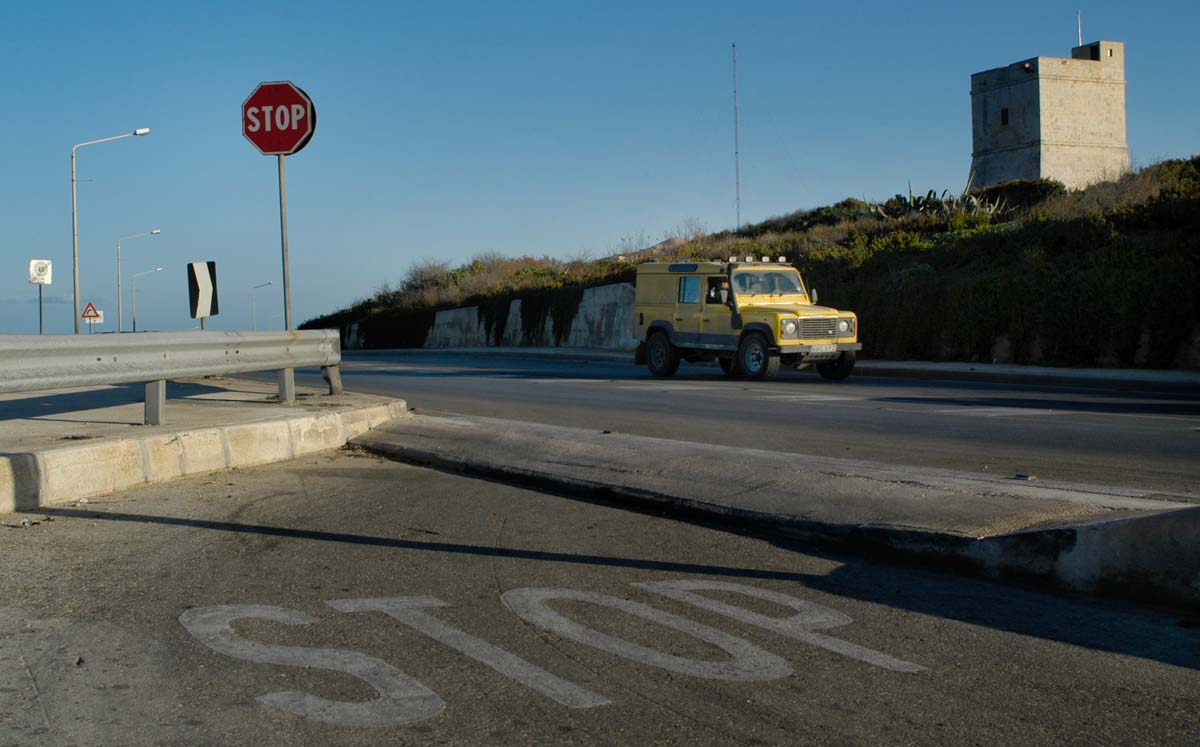stop: (240, 81, 313, 157)
